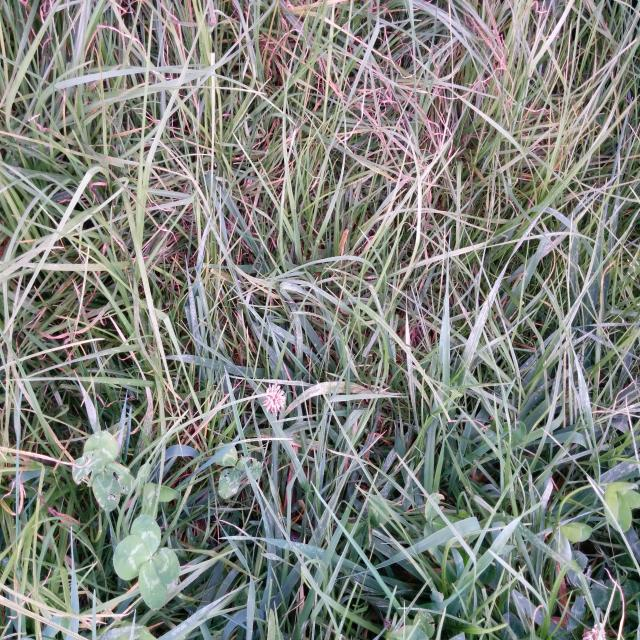Four Leaf Clover: (113, 515, 179, 609), (73, 430, 135, 511)
